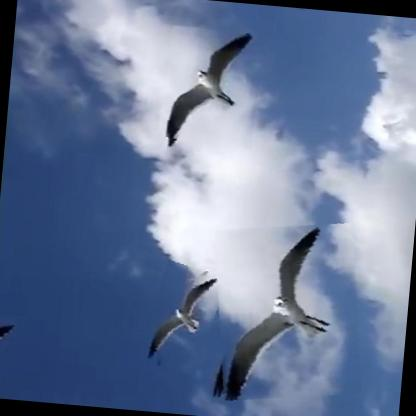bird: (207, 216, 371, 407), (160, 25, 266, 148), (142, 259, 223, 373)
